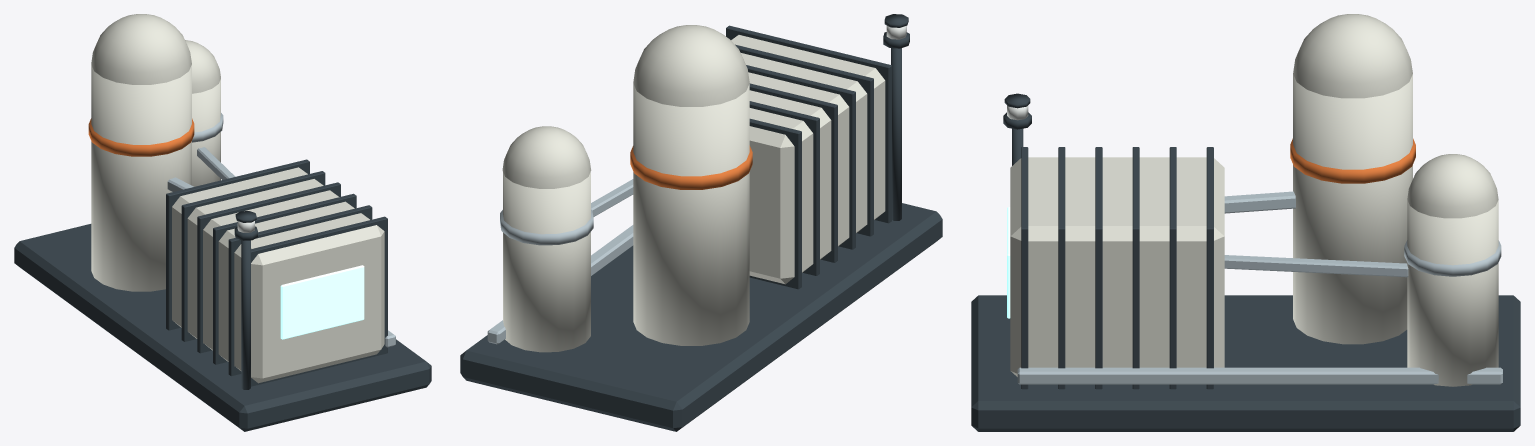
The model's file is electrolyser.glb.
The picture shows the model from 3 angles, left to right: view 1: azimuth 30°, elevation 25°; view 2: azimuth 150°, elevation 25°; view 3: azimuth 270°, elevation 25°; orthographic projection. The views are drawn at different scales.
Visible parts, largest first — view 1: electrolyser_ivory, electrolyser_dark, electrolyser_cyan, electrolyser_orange, electrolyser_metal; view 2: electrolyser_ivory, electrolyser_dark, electrolyser_metal, electrolyser_orange; view 3: electrolyser_ivory, electrolyser_dark, electrolyser_metal, electrolyser_orange.
Part boxes in pixels (x1,y1,x2,y2): electrolyser_ivory: (91,14,384,383); electrolyser_dark: (14,159,431,431); electrolyser_cyan: (280,265,364,339); electrolyser_orange: (88,118,194,156); electrolyser_metal: (167,113,395,347); electrolyser_ivory: (502,25,885,352); electrolyser_dark: (460,14,942,431); electrolyser_metal: (487,179,633,344); electrolyser_orange: (630,145,752,189); electrolyser_ivory: (1010,14,1498,386); electrolyser_dark: (971,93,1520,431); electrolyser_metal: (1017,191,1502,384); electrolyser_orange: (1290,138,1415,183).
Bounding box in the file's own units: 1.85 × 2.62 × 3.85.
